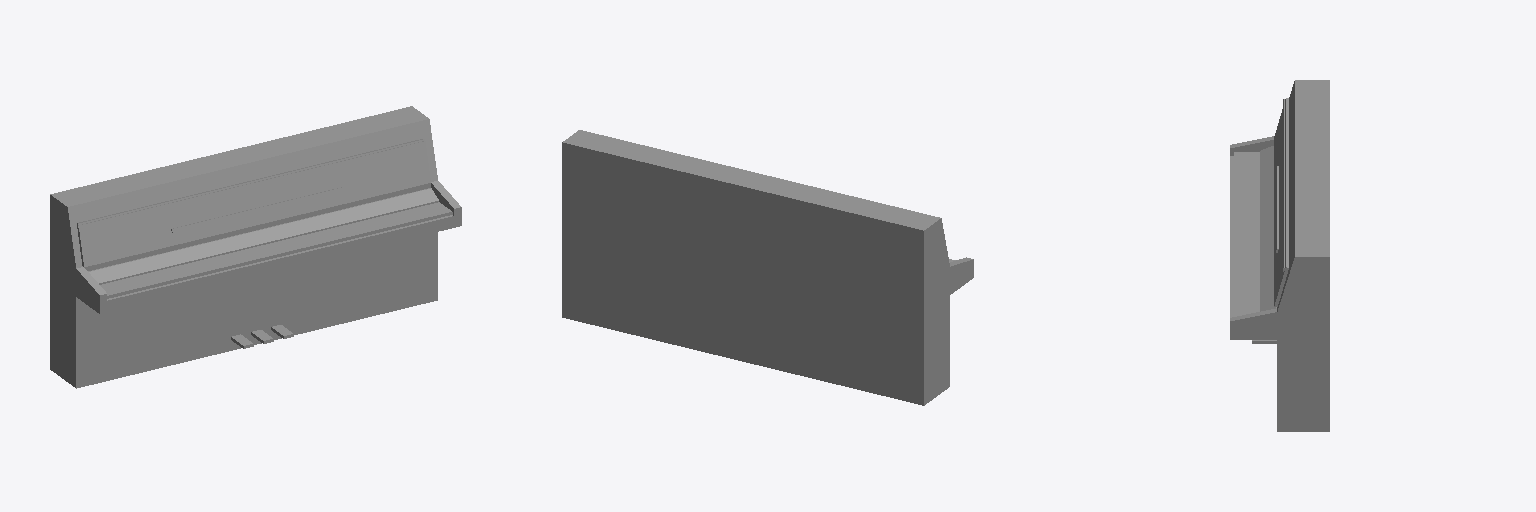
The model's file is pianoDroit.obj.
3 renders of one model, left to right at view 1: azimuth 30°, elevation 25°; view 2: azimuth 150°, elevation 25°; view 3: azimuth 270°, elevation 25°, orthographic.
Parts seen in each view (by area): view 1: Mesh_Couche:OBJECT011; view 2: Mesh_Couche:OBJECT011; view 3: Mesh_Couche:OBJECT011.
Part boxes in pixels (left/top/right/bottom): Mesh_Couche:OBJECT011: left=50, top=106, right=461, bottom=388; Mesh_Couche:OBJECT011: left=562, top=130, right=973, bottom=405; Mesh_Couche:OBJECT011: left=1230, top=80, right=1329, bottom=431.
Size of the model in its own units: 14.4 by 6.66 by 3.42.